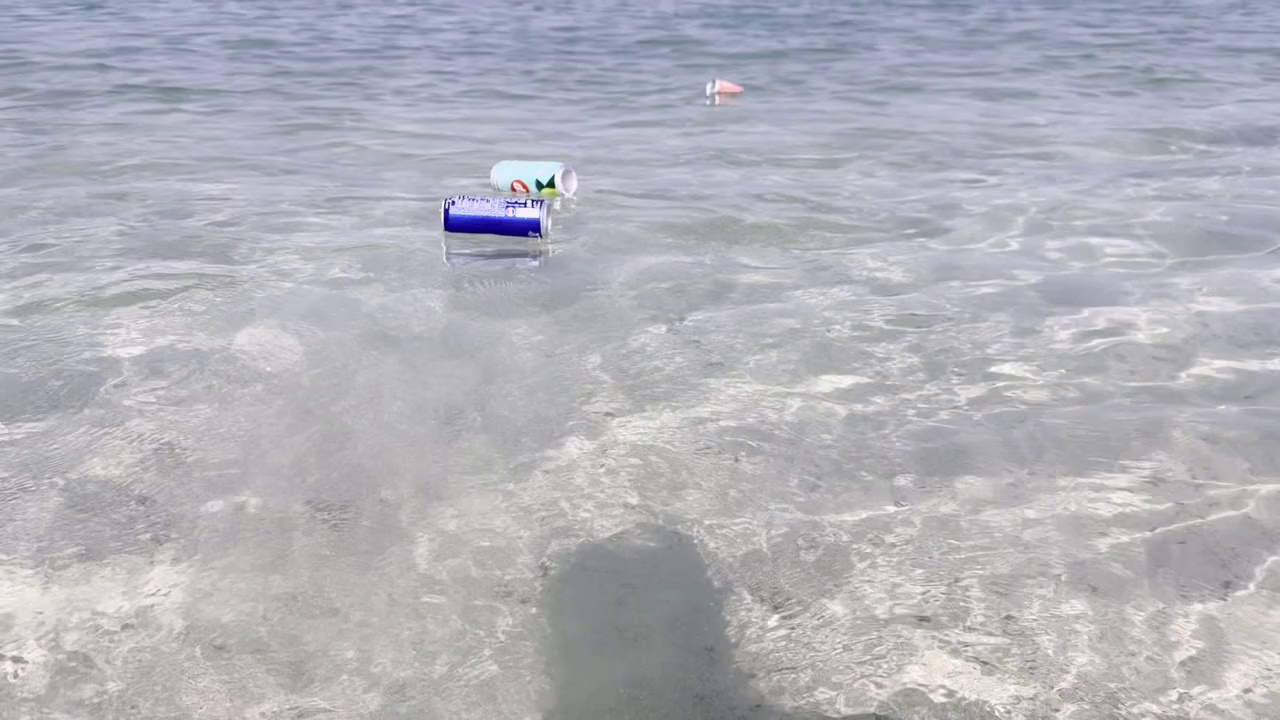debris: (428, 189, 565, 243), (490, 153, 585, 207), (693, 72, 749, 111)
